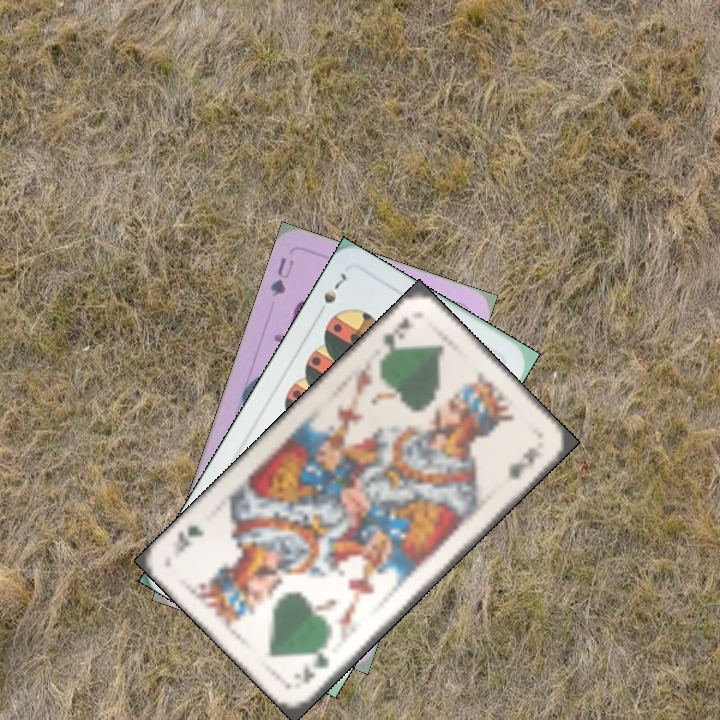GK: (378, 313, 413, 362), (299, 648, 332, 686)
GU: (266, 253, 296, 299)
S7: (319, 268, 349, 307)
